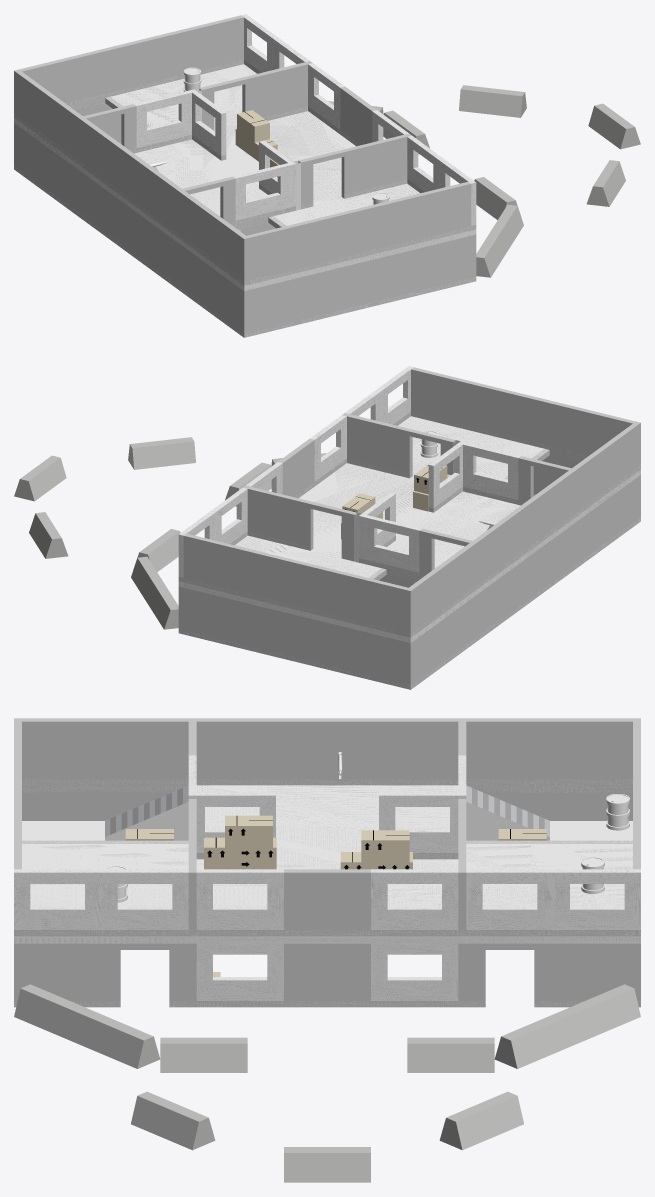
Rendered from obstacle1.glb.
3 renders of one model, top to bottom at view 1: azimuth 30°, elevation 25°; view 2: azimuth 150°, elevation 25°; view 3: azimuth 270°, elevation 25°, orthographic. The views are drawn at different scales.
Visible parts, largest first — view 1: instance_36_ID1762, instance_53.002_ID1437, instance_55.002_ID1437, instance_54.002_ID1437, instance_56.002_ID1437, instance_44.002_ID1437, instance_43.002_ID1437, instance_42.002_ID1437, instance_18.002_ID1437, instance_16.002_ID1437, instance_17.002_ID1437, instance_15.002_ID1437 (+41 smaller); view 2: instance_36_ID1762, instance_42.002_ID1437, instance_44.002_ID1437, instance_43.002_ID1437, instance_45.002_ID1437, instance_55.002_ID1437, instance_54.002_ID1437, instance_53.002_ID1437, instance_5.002_ID1437, instance_7.002_ID1437, instance_6.002_ID1437, instance_4.002_ID1437 (+40 smaller); view 3: instance_36_ID1762, instance_52.002_ID1437, instance_50.002_ID1437, instance_47.002_ID1437, instance_46.002_ID1437, instance_59.002_ID1437, instance_49.002_ID1437, instance_11.002_ID1437, instance_51.002_ID1437, instance_48.002_ID1437, instance_13.002_ID1437, instance_8.002_ID1437 (+37 smaller).
Part boxes in pixels (left/top/right/bottom): instance_36_ID1762: left=14, top=64, right=476, bottom=290; instance_53.002_ID1437: left=413, top=181, right=471, bottom=239; instance_55.002_ID1437: left=302, top=209, right=360, bottom=266; instance_54.002_ID1437: left=357, top=195, right=415, bottom=252; instance_56.002_ID1437: left=246, top=222, right=304, bottom=279; instance_44.002_ID1437: left=75, top=42, right=132, bottom=99; instance_43.002_ID1437: left=130, top=29, right=188, bottom=86; instance_42.002_ID1437: left=186, top=15, right=243, bottom=69; instance_18.002_ID1437: left=304, top=263, right=360, bottom=318; instance_16.002_ID1437: left=415, top=236, right=471, bottom=291; instance_17.002_ID1437: left=249, top=276, right=304, bottom=331; instance_15.002_ID1437: left=360, top=249, right=415, bottom=304; instance_36_ID1762: left=178, top=416, right=640, bottom=642; instance_42.002_ID1437: left=183, top=533, right=241, bottom=591; instance_44.002_ID1437: left=294, top=561, right=352, bottom=618; instance_43.002_ID1437: left=239, top=547, right=297, bottom=604; instance_45.002_ID1437: left=350, top=574, right=408, bottom=631; instance_55.002_ID1437: left=522, top=394, right=579, bottom=451; instance_54.002_ID1437: left=466, top=381, right=524, bottom=438; instance_53.002_ID1437: left=411, top=367, right=468, bottom=424; instance_5.002_ID1437: left=294, top=615, right=350, bottom=670; instance_7.002_ID1437: left=183, top=588, right=239, bottom=643; instance_6.002_ID1437: left=239, top=601, right=294, bottom=656; instance_4.002_ID1437: left=350, top=628, right=405, bottom=683; instance_36_ID1762: left=14, top=785, right=640, bottom=943; instance_52.002_ID1437: left=466, top=718, right=553, bottom=778; instance_50.002_ID1437: left=101, top=718, right=188, bottom=778; instance_47.002_ID1437: left=196, top=718, right=283, bottom=778; instance_46.002_ID1437: left=371, top=718, right=458, bottom=778; instance_59.002_ID1437: left=284, top=869, right=370, bottom=929; instance_49.002_ID1437: left=284, top=718, right=370, bottom=778; instance_11.002_ID1437: left=284, top=943, right=370, bottom=1000; instance_51.002_ID1437: left=14, top=718, right=101, bottom=778; instance_48.002_ID1437: left=553, top=718, right=640, bottom=778; instance_13.002_ID1437: left=14, top=943, right=101, bottom=1000; instance_8.002_ID1437: left=553, top=943, right=640, bottom=1000.
Size of the model in its own units: 18.63 by 3.55 by 14.98.
